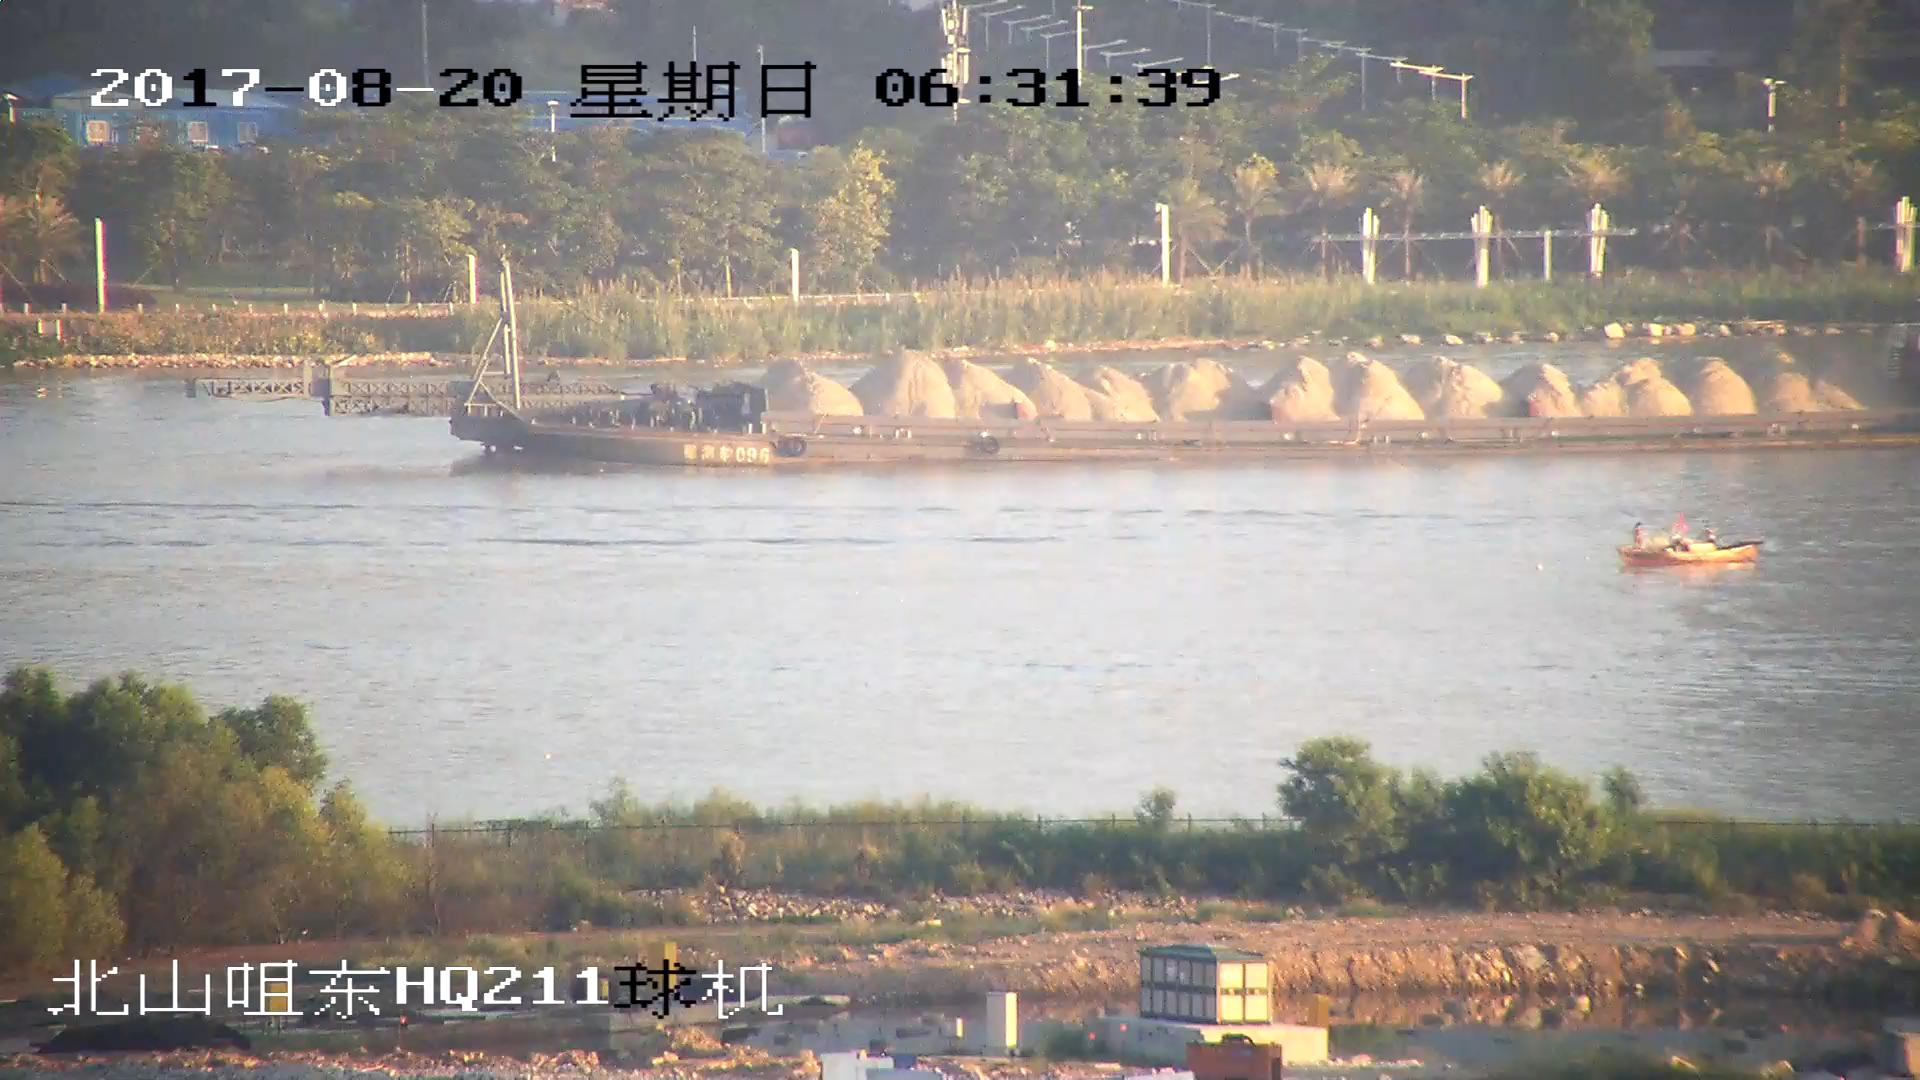fishing boat: (1617, 507, 1767, 574)
ore carrier: (187, 255, 1920, 471)
